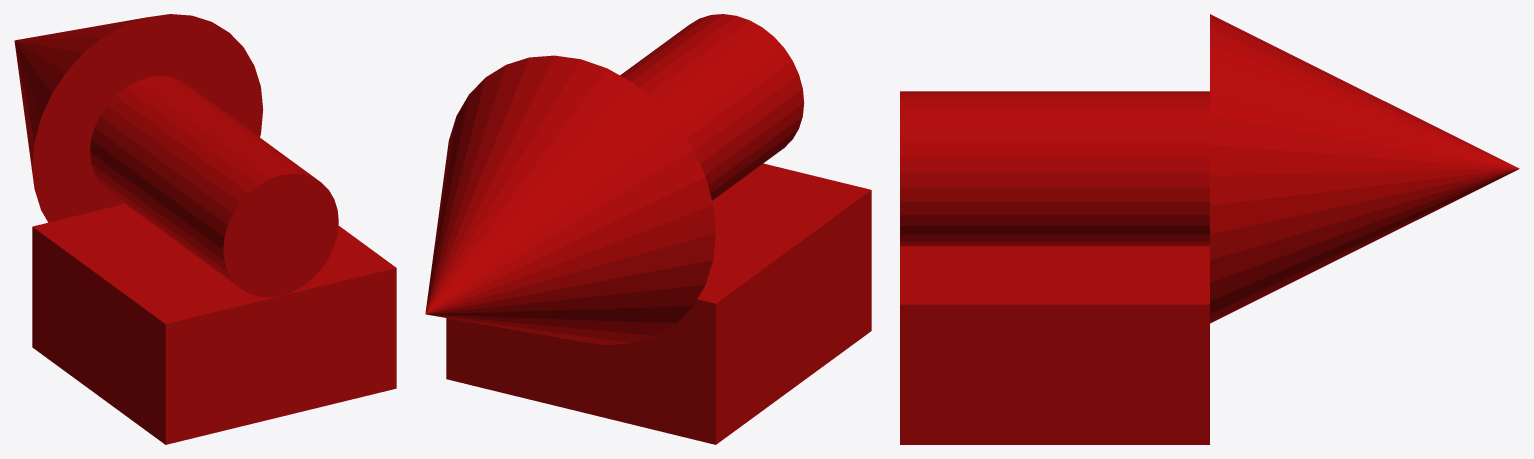
File: enemytypeDbehit.obj
3 views of the same model, side by side, from view 1: azimuth 30°, elevation 25°; view 2: azimuth 150°, elevation 25°; view 3: azimuth 270°, elevation 25° (orthographic). The views are drawn at different scales.
Visible parts, largest first — view 1: 立方體_立方體.009, 圓柱體_圓柱體.001, 圓錐體_圓錐體.003; view 2: 圓錐體_圓錐體.003, 立方體_立方體.009, 圓柱體_圓柱體.001; view 3: 立方體_立方體.009, 圓柱體_圓柱體.001, 圓錐體_圓錐體.003.
Boxes of the visible parts, x1,y1,x2,y2 form: 立方體_立方體.009: [32, 204, 396, 444]; 圓柱體_圓柱體.001: [90, 76, 338, 297]; 圓錐體_圓錐體.003: [14, 14, 263, 222]; 圓錐體_圓錐體.003: [425, 55, 715, 345]; 立方體_立方體.009: [446, 163, 871, 444]; 圓柱體_圓柱體.001: [620, 14, 804, 200]; 立方體_立方體.009: [900, 246, 1209, 444]; 圓柱體_圓柱體.001: [900, 91, 1209, 246]; 圓錐體_圓錐體.003: [1210, 14, 1519, 323].
Bounding box in the file's own units: 8 × 10 × 16.
Materials: 3 (3 with a texture image).
